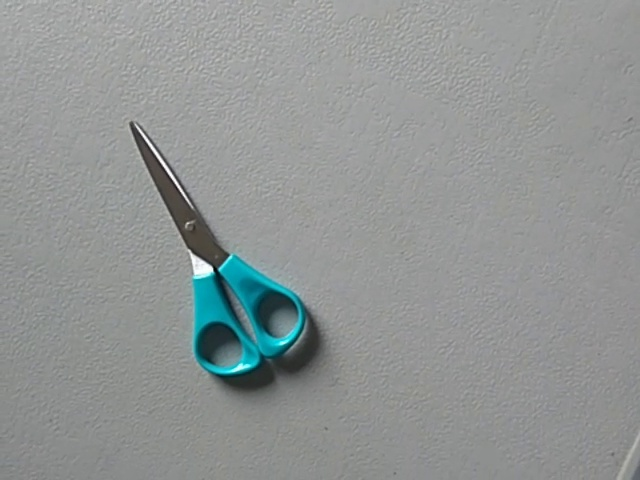Sizer: (121, 109, 319, 394)
